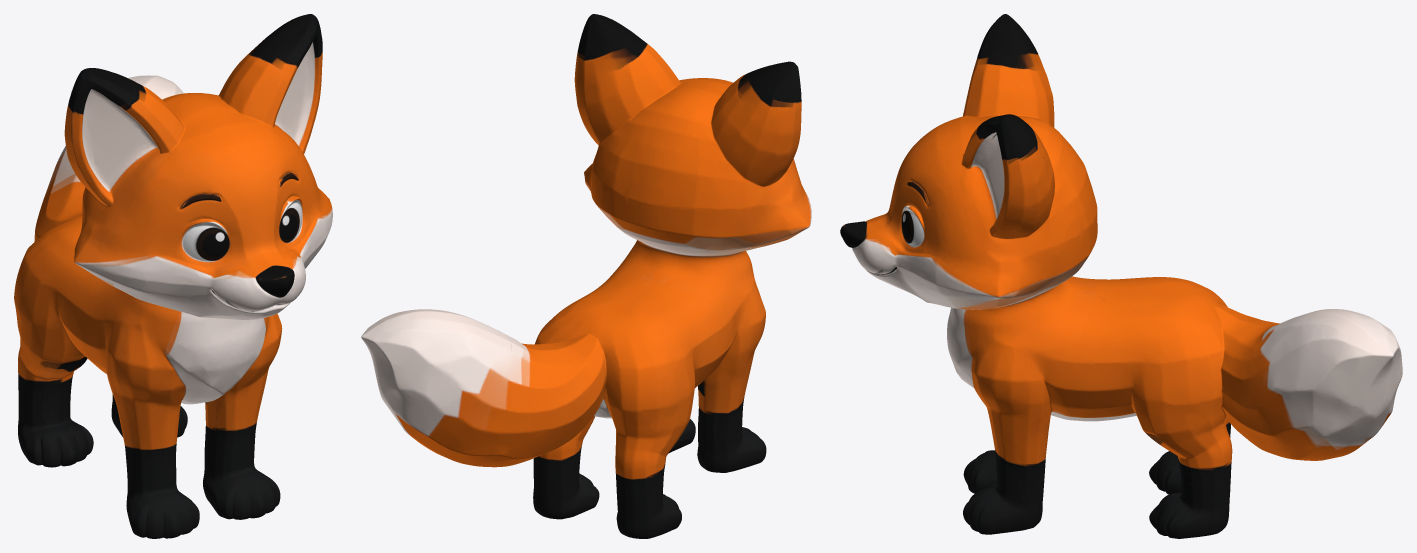
Rendered from fox.glb.
3 renders of one model, left to right at view 1: azimuth 30°, elevation 25°; view 2: azimuth 150°, elevation 25°; view 3: azimuth 270°, elevation 25°, orthographic. The views are drawn at different scales.
Size of the model in its own units: 1.09 by 1.64 by 1.9.
Materials: 1 (1 with a texture image).
